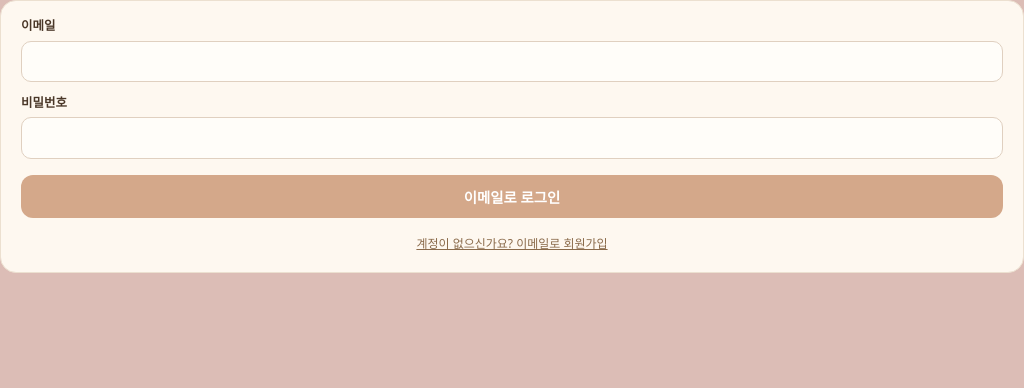
Test case: EmailAuthForm › rejects a signup password mismatch before submitting and focuses confirmation
Click the button "계정이 없으신가요? 이메일로 회원가입" at coordinates (512, 243), box [408,230,616,256]
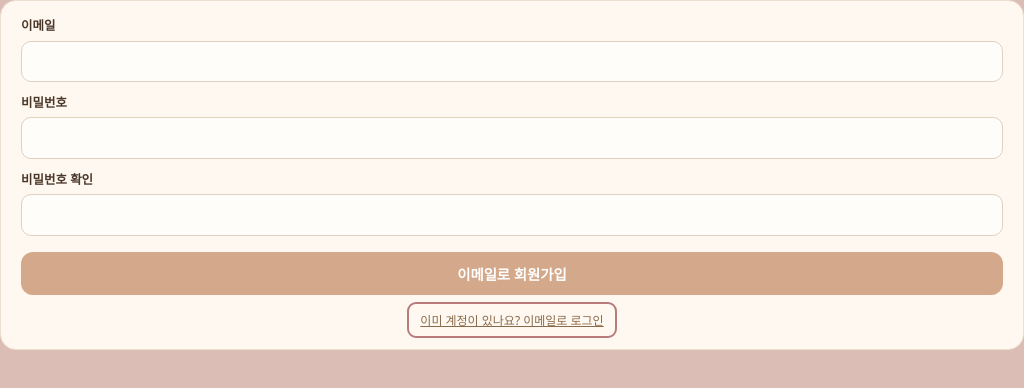
Type "user@example.com" into the field labelled "이메일" at coordinates (512, 61), box [21,40,1003,82]
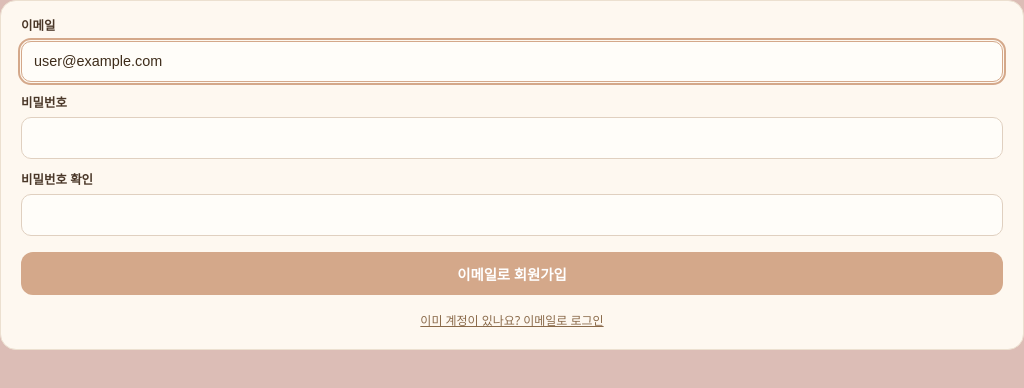
Type "secret-one" into the password field labelled "비밀번호" at coordinates (512, 138), box [21,117,1003,159]
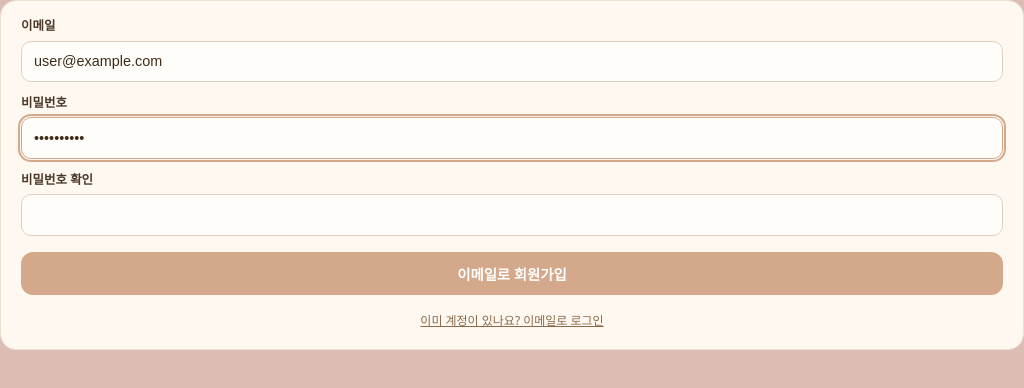
Type "secret-two" into the password field labelled "비밀번호 확인" at coordinates (512, 215), box [21,194,1003,236]
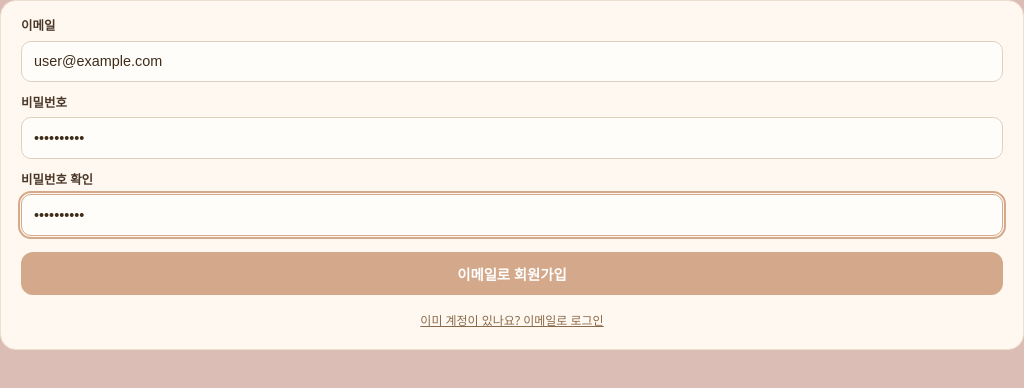
Click the button "이메일로 회원가입" at coordinates (512, 273), box [21,252,1003,295]
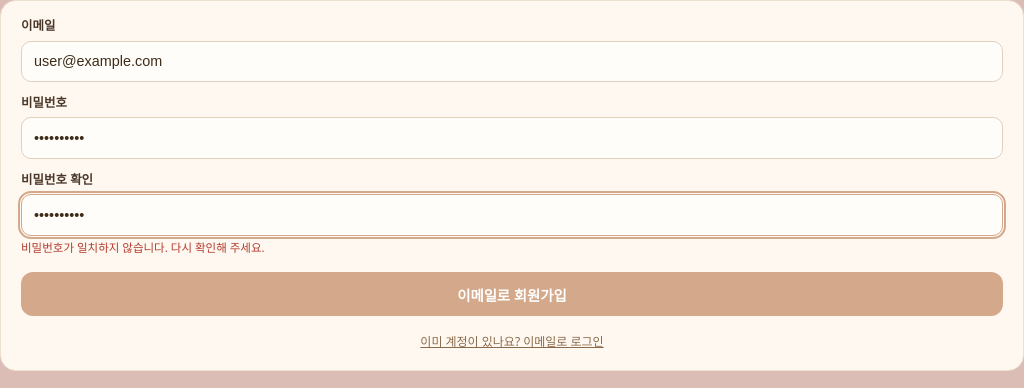
Expected: the text "비밀번호가 일치하지 않습니다. 다시 확인해 주세요." is shown, [21,240,265,255]
